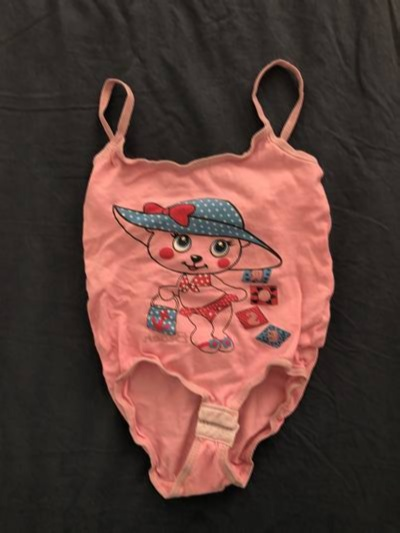Body: (47, 36, 343, 500)
